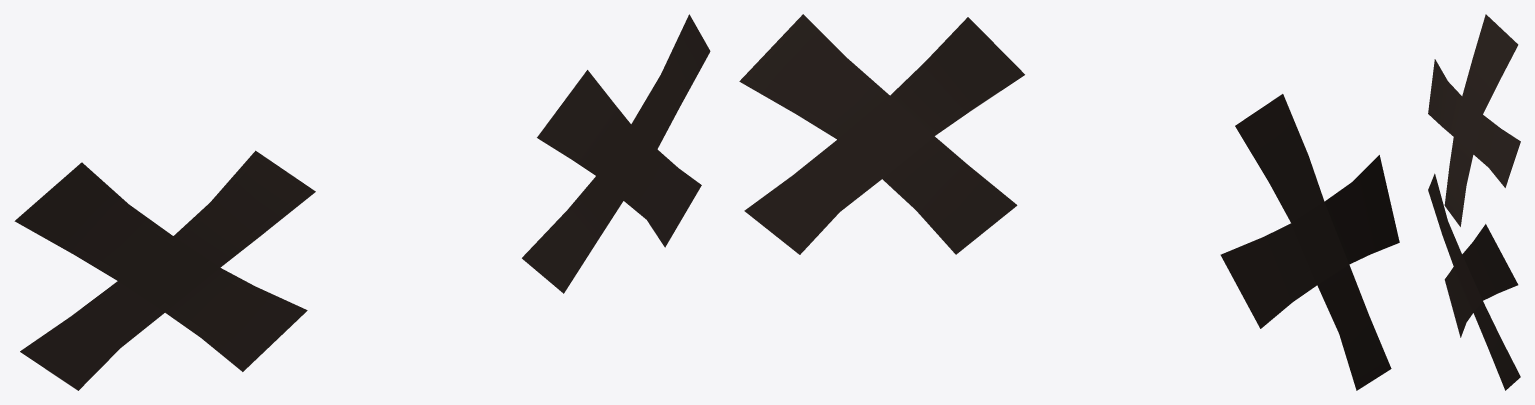
File: Eye_2.fbx
3 renders of one model, left to right at view 1: azimuth 30°, elevation 25°; view 2: azimuth 150°, elevation 25°; view 3: azimuth 270°, elevation 25°, orthographic. The views are drawn at different scales.
Parts seen in each view (by area): view 1: Eye_2; view 2: Eye_2; view 3: Eye_2.
Part boxes in pixels (x1,y1,x2,y2): Eye_2: (14,14,710,390); Eye_2: (739,14,1399,390); Eye_2: (1428,14,1520,390).
Bounding box in the file's own units: 34.2 × 11.54 × 5.59.
